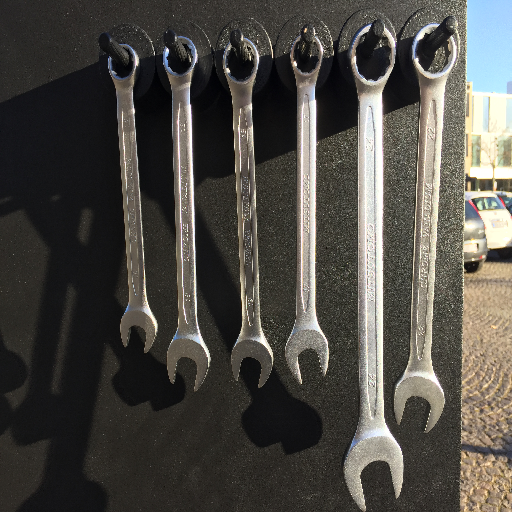bottom: (341, 434, 410, 512), (390, 371, 448, 437), (164, 330, 215, 394), (283, 326, 332, 385), (229, 334, 277, 391), (117, 303, 160, 356)
top: (346, 20, 398, 89), (406, 21, 462, 85), (220, 35, 262, 88), (160, 34, 201, 83), (102, 40, 144, 86), (286, 31, 325, 79)
